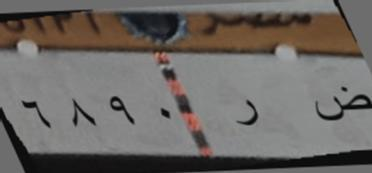0: (157, 101, 175, 128)
6: (18, 94, 55, 139)
8: (68, 93, 98, 132)
9: (107, 93, 136, 130)
daad: (309, 74, 372, 128)
raa: (227, 92, 264, 138)
